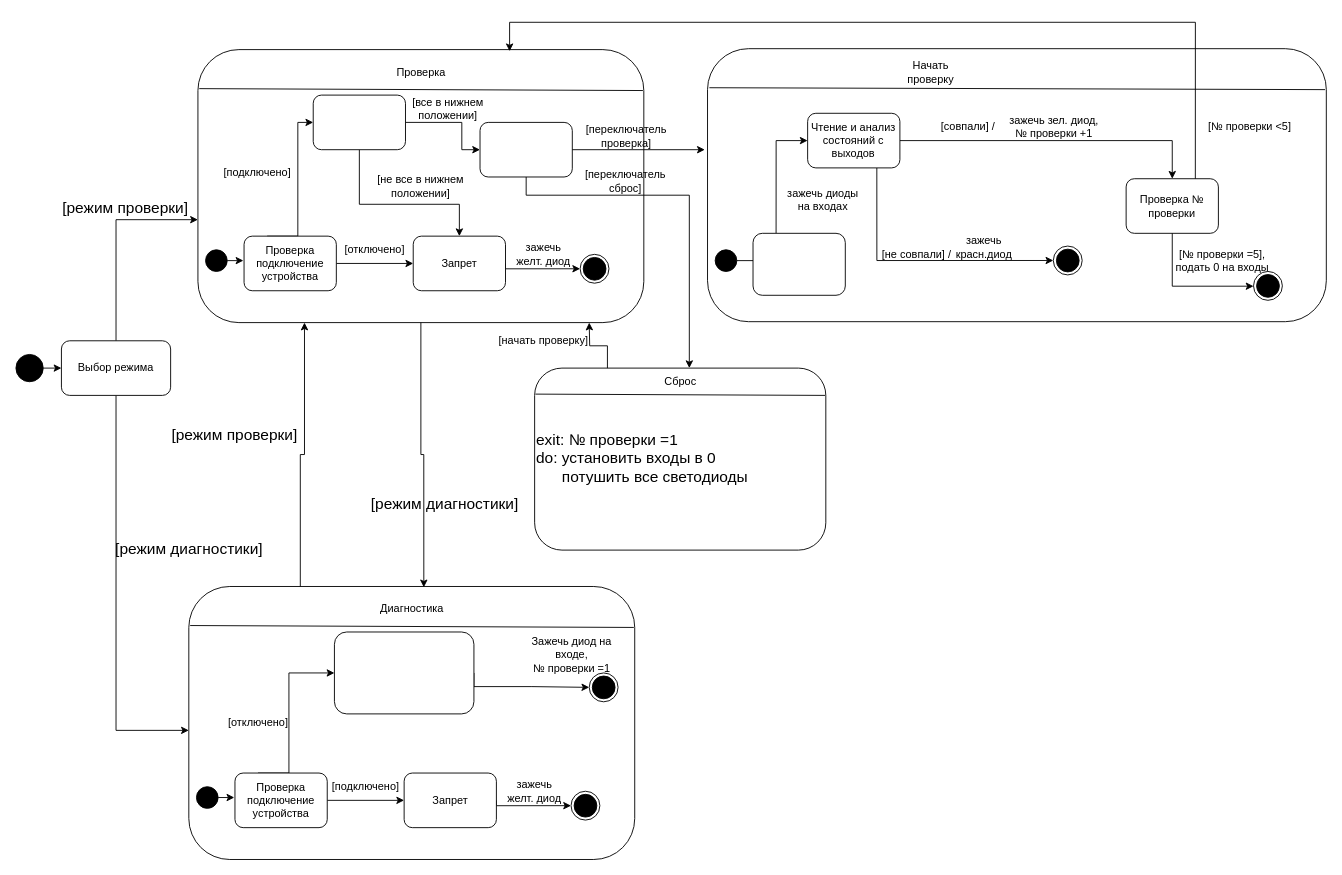
Image size: 1342x875. Some labels were removed from this diagram. Each missing label, with the box of its shape:
Проверка переключателя проверки: (479, 121, 572, 177)
Проверка состояний переключателей: (312, 94, 405, 150)
Проверка состояний переключателей установка состояний входов: (334, 631, 474, 714)
установить состояния на входах в соответствии с № проверки: (752, 232, 845, 295)
